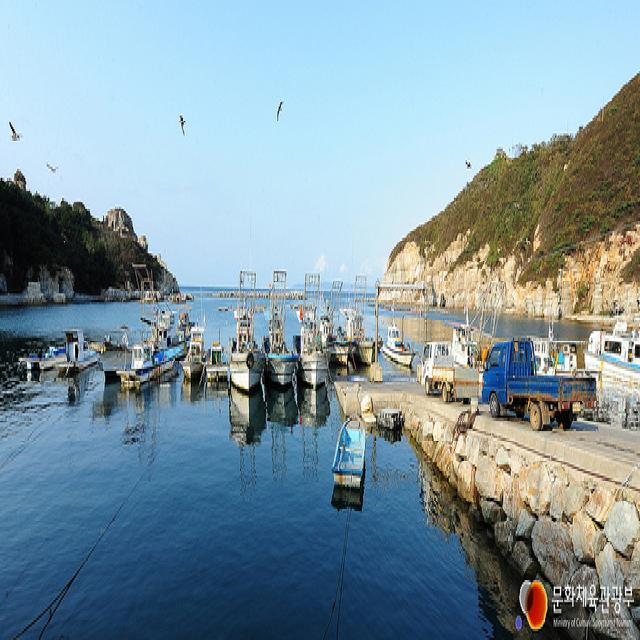fishing boat: (219, 271, 259, 391), (290, 268, 328, 390), (261, 261, 292, 390), (341, 282, 381, 368), (320, 280, 353, 372)
